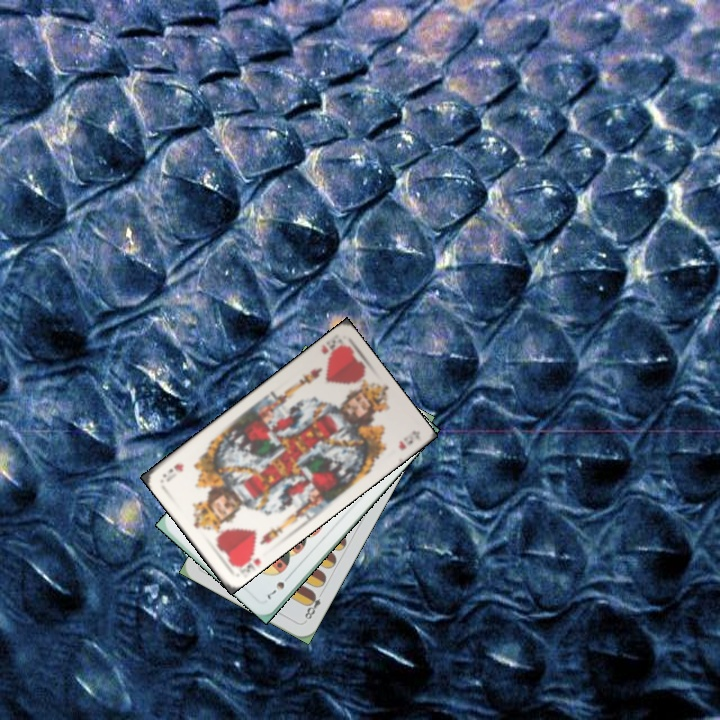E8: (300, 587, 326, 624)
HK: (230, 545, 263, 570), (317, 336, 347, 362)
S7: (263, 570, 294, 602)
